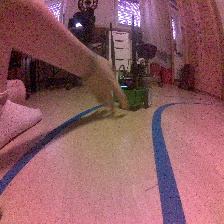rob: (113, 63, 153, 109)
